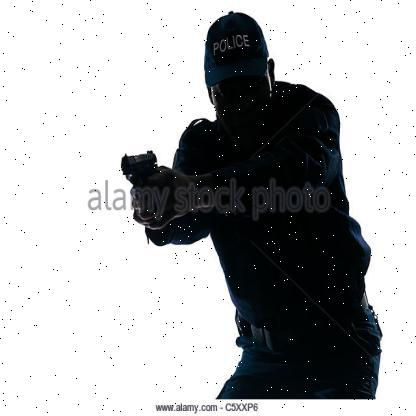pistol: (118, 146, 160, 204)
